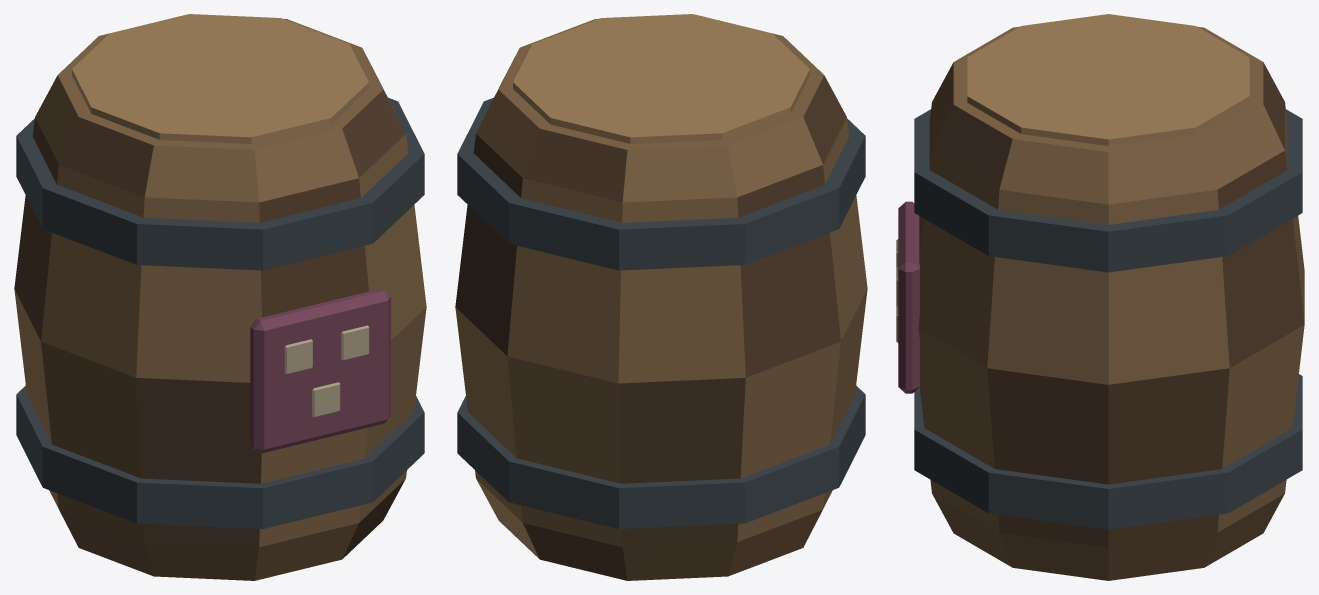
File: wine_barrel.glb
3 renders of one model, left to right at view 1: azimuth 30°, elevation 25°; view 2: azimuth 150°, elevation 25°; view 3: azimuth 270°, elevation 25°, orthographic.
Parts seen in each view (by area): view 1: wine_barrel; view 2: wine_barrel; view 3: wine_barrel.
Part boxes in pixels (left/top/right/bottom): wine_barrel: left=14, top=14, right=426, bottom=580; wine_barrel: left=455, top=14, right=867, bottom=580; wine_barrel: left=896, top=14, right=1304, bottom=580.
Size of the model in its own units: 0.68 by 0.792 by 0.6731.
